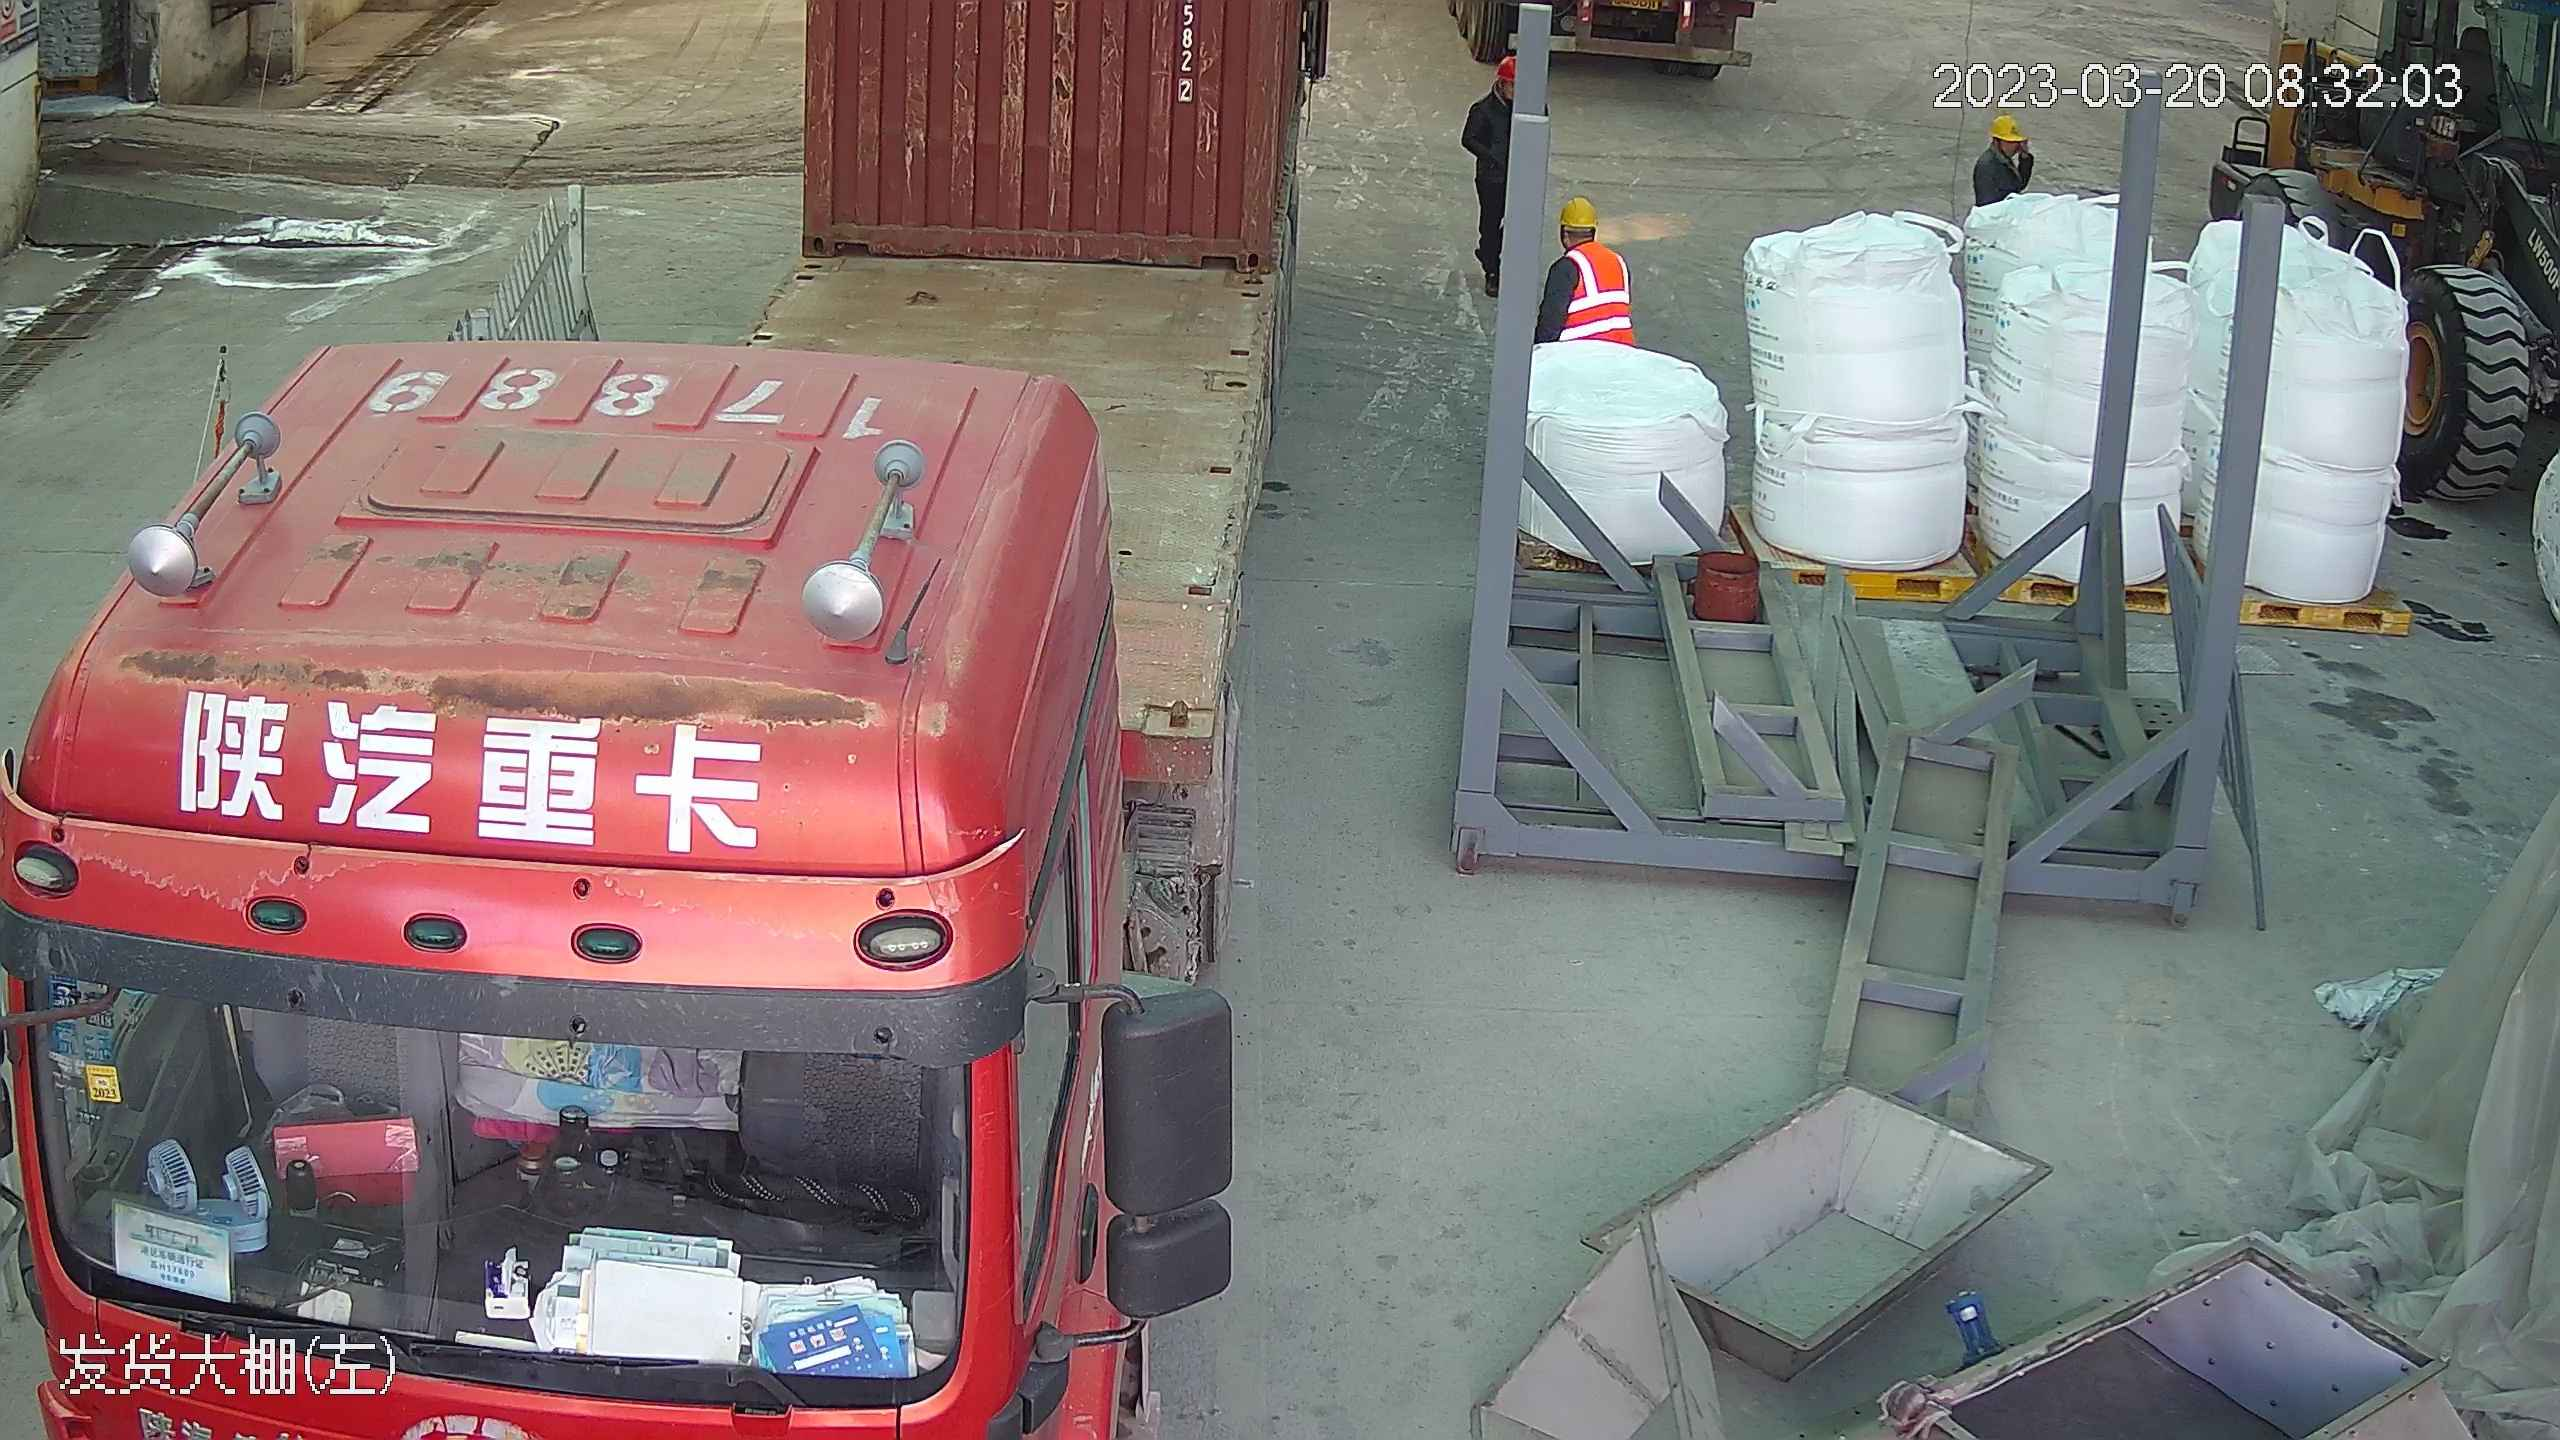head: (1545, 193, 1622, 285), (1971, 109, 2034, 185)
helmet: (1547, 192, 1620, 282), (1555, 194, 1598, 226), (1987, 110, 2024, 140), (1485, 60, 1512, 82)
people: (1533, 190, 1629, 359)
truck: (2, 1, 1295, 1440)
